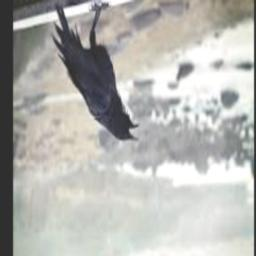Crow: (51, 0, 140, 144)
